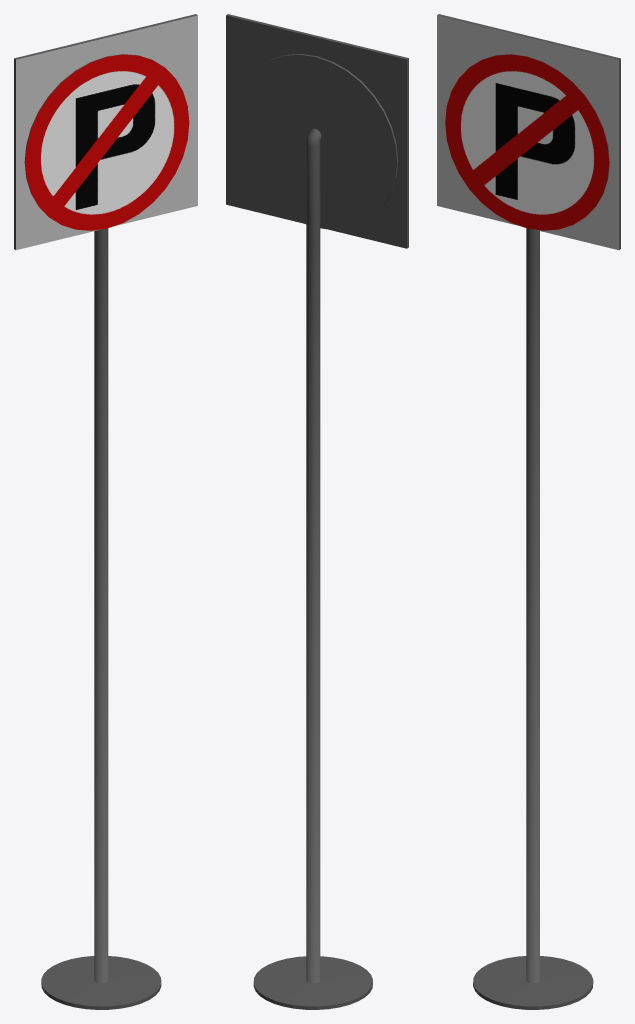
The model's file is Tabelalar_2.fbx.
The picture shows the model from 3 angles, left to right: view 1: azimuth 30°, elevation 25°; view 2: azimuth 150°, elevation 25°; view 3: azimuth 330°, elevation 25°; orthographic projection.
Visible parts, largest first — view 1: Tabela_ParkYapilmaz, Tabela_YayaGecidi; view 2: Tabela_ParkYapilmaz, Tabela_YayaGecidi; view 3: Tabela_ParkYapilmaz, Tabela_YayaGecidi.
Boxes of the visible parts, x1,y1,x2,y2 form: Tabela_ParkYapilmaz: [24, 54, 189, 1009]; Tabela_YayaGecidi: [14, 14, 197, 250]; Tabela_ParkYapilmaz: [234, 54, 398, 1009]; Tabela_YayaGecidi: [226, 14, 408, 248]; Tabela_ParkYapilmaz: [445, 54, 609, 1009]; Tabela_YayaGecidi: [437, 14, 620, 250].
Size of the model in its own units: 50.03 by 250 by 28.65.
